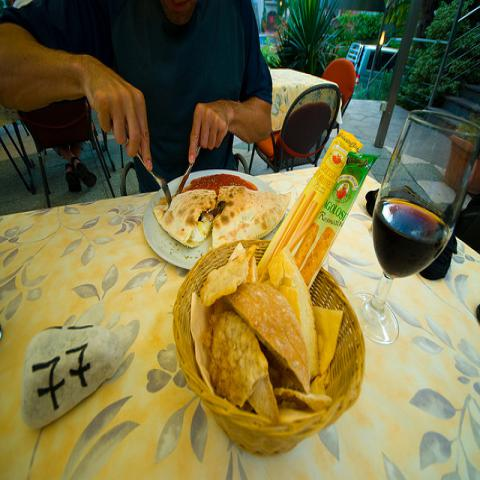car: (343, 43, 402, 86)
